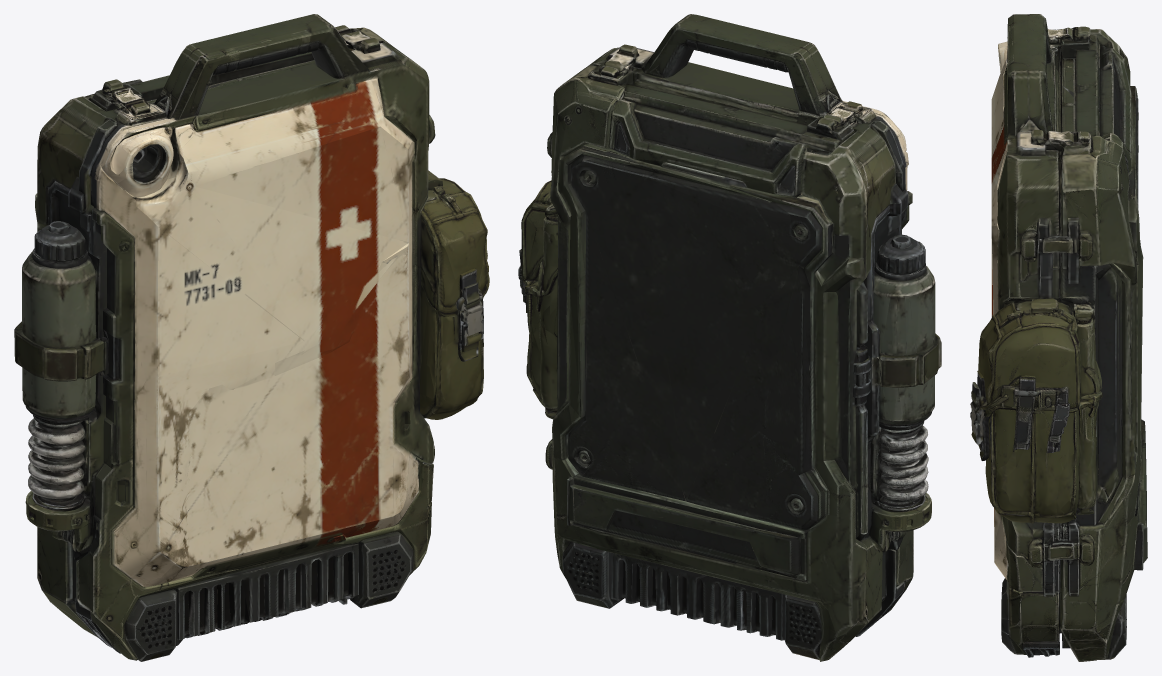
The model's file is pack_operator_sage.glb.
3 views of the same model, side by side, from view 1: azimuth 30°, elevation 25°; view 2: azimuth 150°, elevation 25°; view 3: azimuth 270°, elevation 25° (orthographic). The views are drawn at different scales.
Size of the model in its own units: 1.46 by 1.91 by 0.5504.
1 material, 1 textured.
